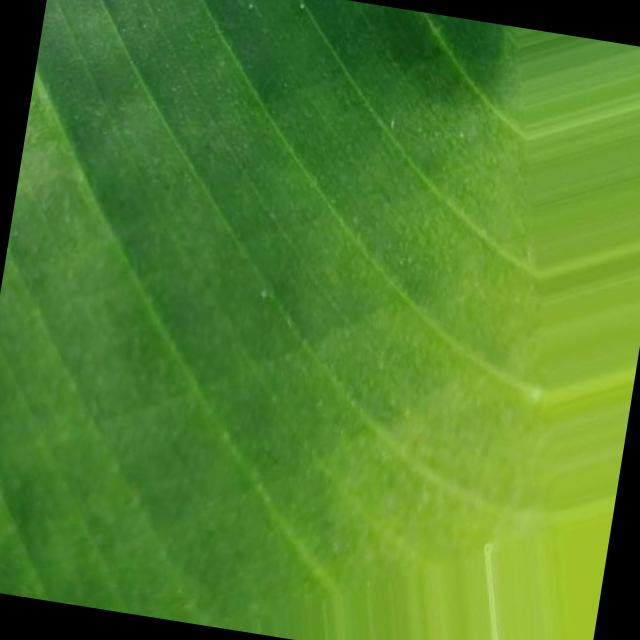Banana_Healthy: (51, 26, 550, 515)
